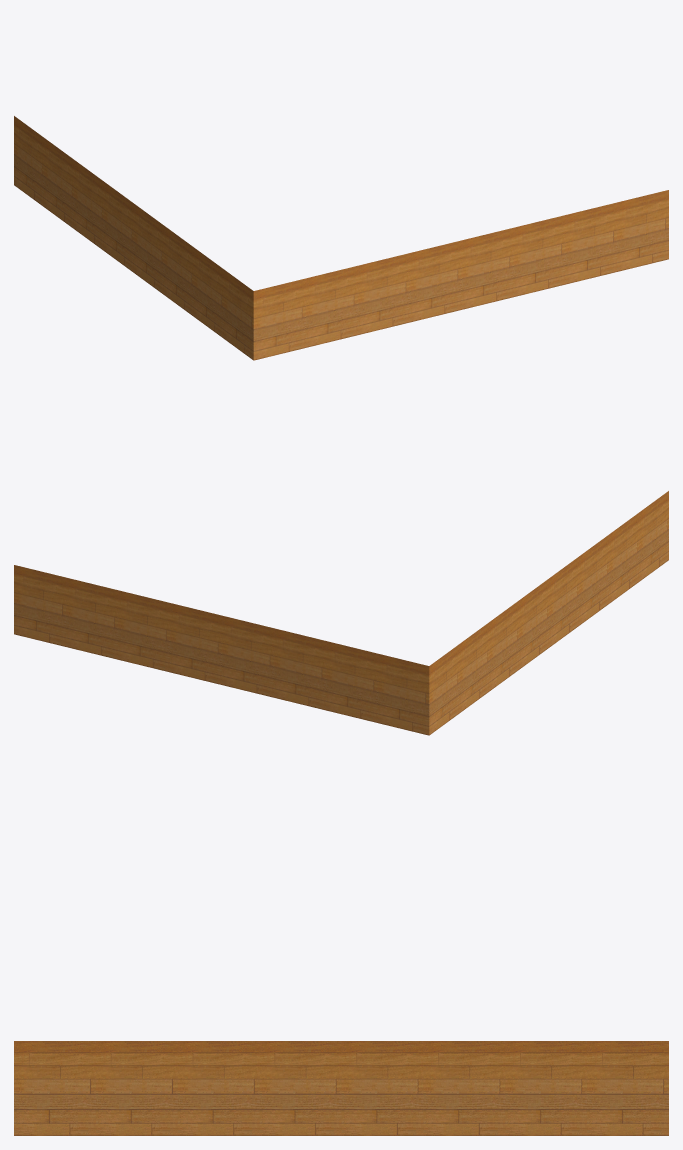
3 views of the same model, one above another, from view 1: azimuth 30°, elevation 25°; view 2: azimuth 150°, elevation 25°; view 3: azimuth 270°, elevation 25° (orthographic). The views are drawn at different scales.
Parts seen in each view (by area): view 1: Joint_0_Object_0; view 2: Joint_0_Object_0; view 3: Joint_0_Object_0.
Part boxes in pixels (x1,y1,x2,y2): Joint_0_Object_0: [14, 116, 668, 360]; Joint_0_Object_0: [14, 491, 668, 735]; Joint_0_Object_0: [14, 1041, 668, 1135].
Bounding box in the file's own units: 10000 × 1600 × 10000.
1 material, 1 textured.
